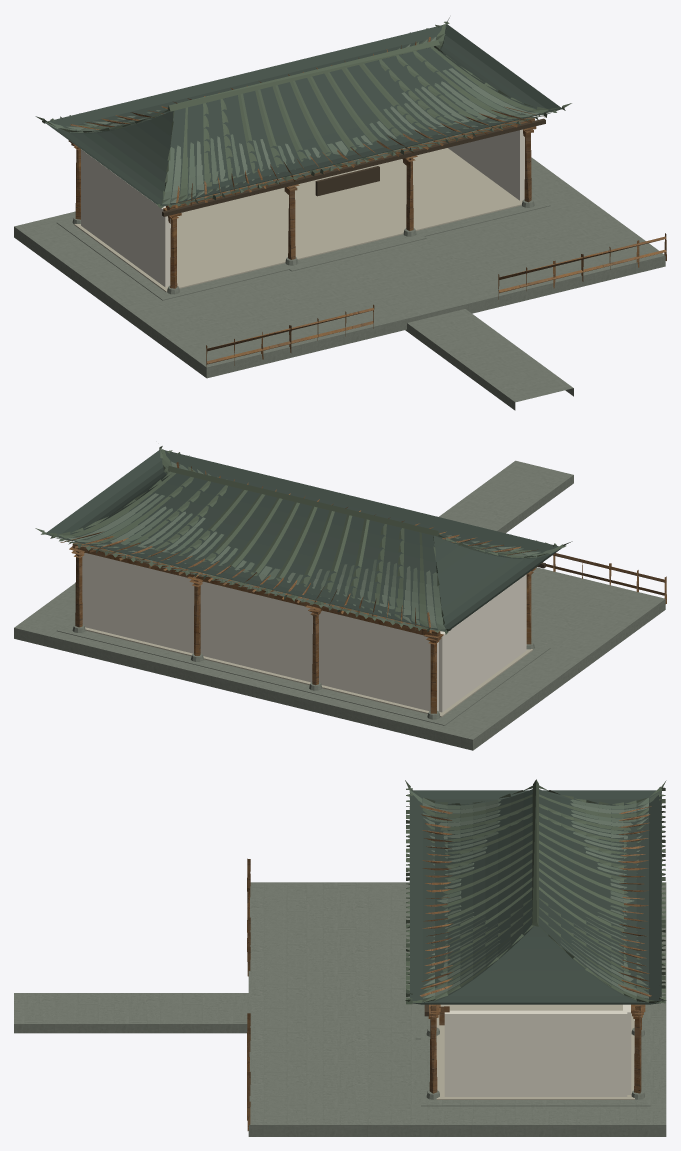
Rendered from public_models_places-low_aojingxiguan.glb.
3 renders of one model, top to bottom at view 1: azimuth 30°, elevation 25°; view 2: azimuth 150°, elevation 25°; view 3: azimuth 270°, elevation 25°, orthographic. The views are drawn at different scales.
Visible parts, largest first — view 1: aojingxiguan_stone, aojingxiguan_roof, aojingxiguan_paving, aojingxiguan_tiledark, aojingxiguan_plaster, aojingxiguan_wood, aojingxiguan_tile, aojingxiguan_tilelight, aojingxiguan_darkwood; view 2: aojingxiguan_roof, aojingxiguan_stone, aojingxiguan_plaster, aojingxiguan_tiledark, aojingxiguan_wood, aojingxiguan_tile, aojingxiguan_tilelight, aojingxiguan_paving; view 3: aojingxiguan_stone, aojingxiguan_roof, aojingxiguan_plaster, aojingxiguan_tiledark, aojingxiguan_wood, aojingxiguan_tile, aojingxiguan_tilelight, aojingxiguan_paving.
Boxes of the visible parts, x1,y1,x2,y2 form: aojingxiguan_stone: (14, 157, 665, 410); aojingxiguan_roof: (45, 24, 562, 206); aojingxiguan_paving: (74, 148, 522, 291); aojingxiguan_tiledark: (35, 17, 571, 208); aojingxiguan_plaster: (81, 129, 524, 287); aojingxiguan_wood: (68, 37, 666, 366); aojingxiguan_tile: (45, 39, 543, 206); aojingxiguan_tilelight: (66, 36, 551, 205); aojingxiguan_darkwood: (162, 118, 545, 216); aojingxiguan_roof: (45, 449, 562, 631); aojingxiguan_stone: (14, 460, 665, 750); aojingxiguan_plaster: (82, 553, 526, 712); aojingxiguan_tiledark: (35, 446, 572, 634); aojingxiguan_wood: (60, 462, 666, 713); aojingxiguan_tile: (64, 464, 558, 631); aojingxiguan_tilelight: (56, 461, 540, 630); aojingxiguan_paving: (85, 627, 532, 717); aojingxiguan_stone: (14, 882, 666, 1136); aojingxiguan_roof: (410, 789, 661, 1004); aojingxiguan_plaster: (444, 1004, 631, 1096); aojingxiguan_tiledark: (405, 779, 666, 1004); aojingxiguan_wood: (247, 804, 651, 1130); aojingxiguan_tile: (409, 790, 661, 994); aojingxiguan_tilelight: (409, 796, 662, 998); aojingxiguan_paving: (436, 1004, 634, 1099).
Size of the model in its own units: 22.07 by 7.08 by 25.03.
Materials: 9 (2 with a texture image).
